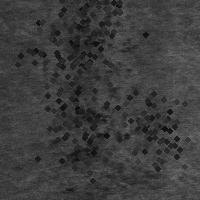rolled-in_scale: (17, 68, 133, 184), (20, 5, 134, 119), (93, 68, 200, 186), (58, 24, 139, 162), (17, 0, 133, 88), (52, 0, 138, 49)
